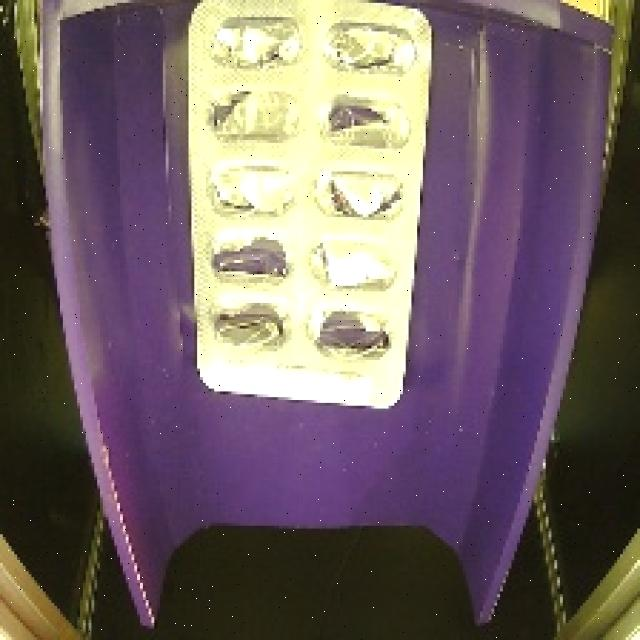med_plate: (178, 0, 444, 421)
